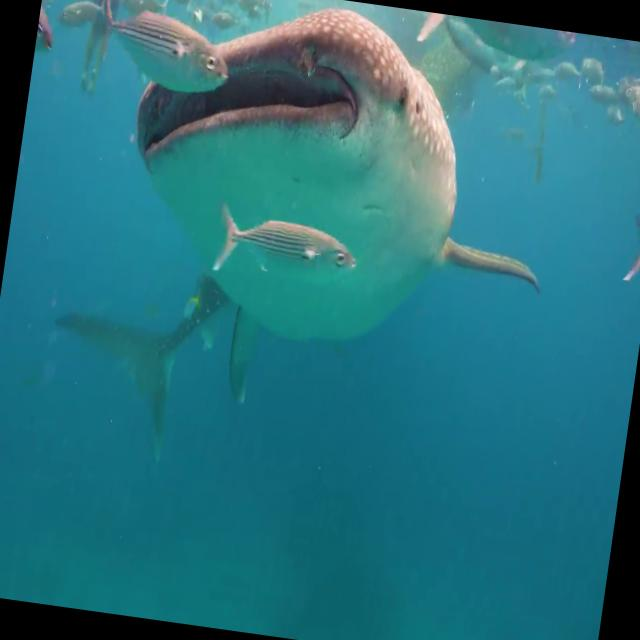fish: (106, 0, 477, 365), (82, 0, 231, 98), (214, 210, 358, 287)
